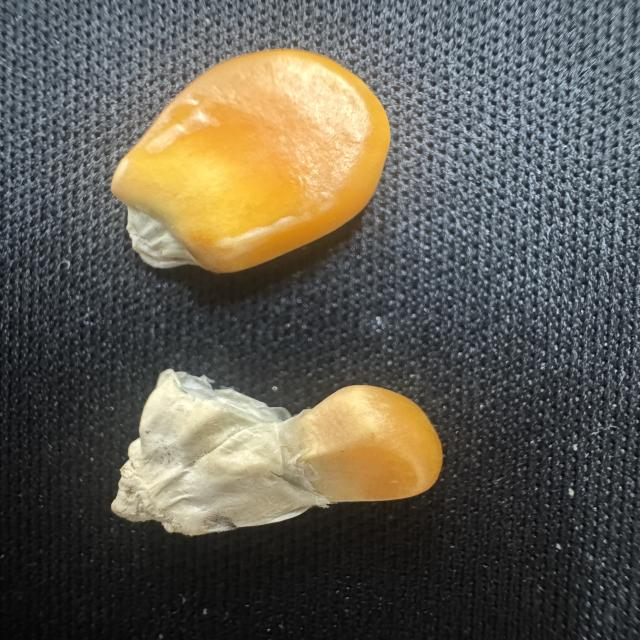Bad-Seed: (98, 357, 451, 550)
Good-Seed: (100, 37, 402, 283)
